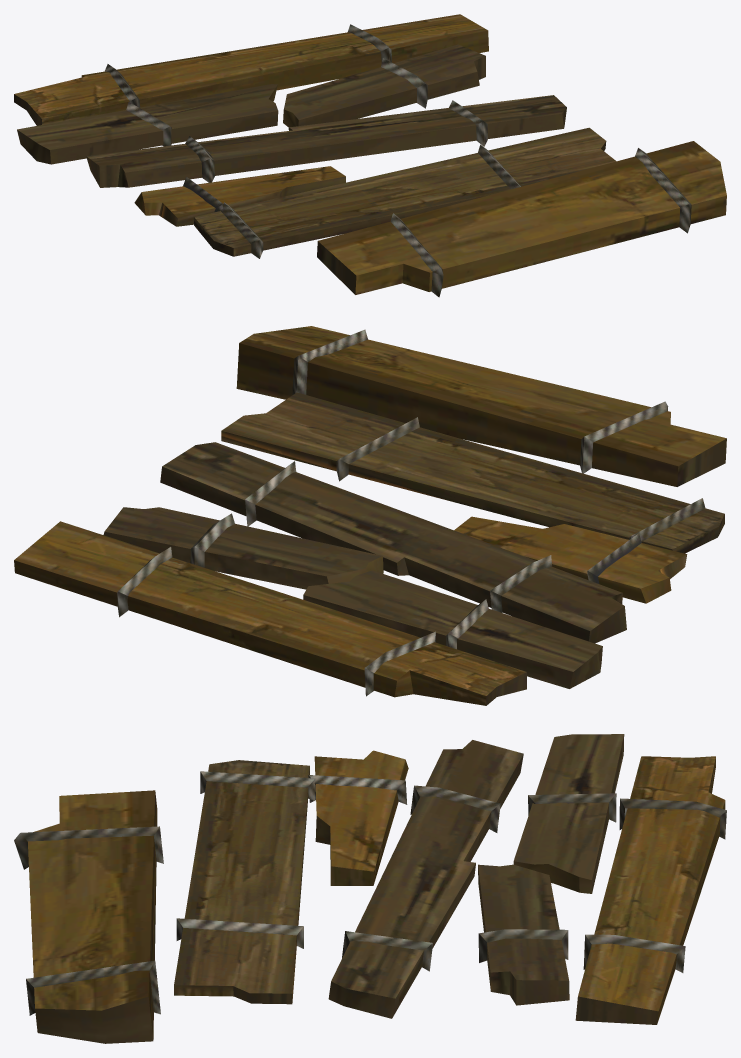
The model's file is 6001_Item_mutou_10.FBX.
The picture shows the model from 3 angles, top to bottom: view 1: azimuth 30°, elevation 25°; view 2: azimuth 150°, elevation 25°; view 3: azimuth 270°, elevation 25°; orthographic projection. The views are drawn at different scales.
Visible parts, largest first — view 1: 6001_Item_mutou_10; view 2: 6001_Item_mutou_10; view 3: 6001_Item_mutou_10.
Boxes of the visible parts, x1,y1,x2,y2 form: 6001_Item_mutou_10: (14,14,726,297); 6001_Item_mutou_10: (14,326,726,705); 6001_Item_mutou_10: (14,734,726,1043).
Bounding box in the file's own units: 287 × 27.22 × 302.
